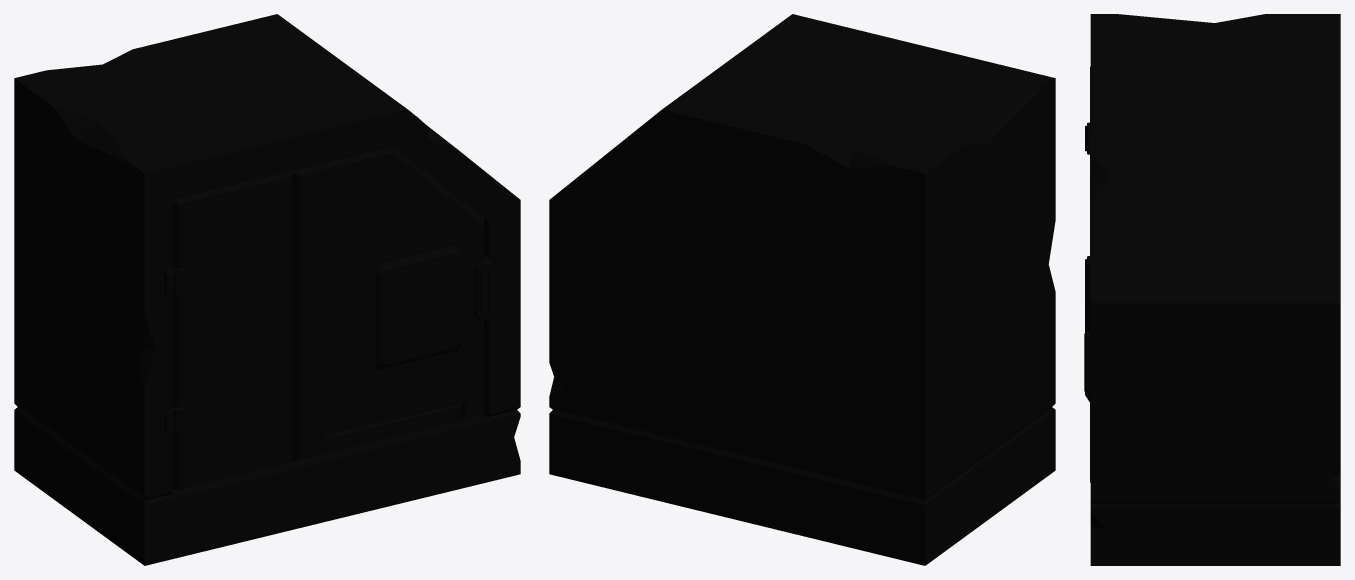
File: cyber_SM_Prop_Electrical_Box_01.gltf
3 views of the same model, side by side, from view 1: azimuth 30°, elevation 25°; view 2: azimuth 150°, elevation 25°; view 3: azimuth 270°, elevation 25° (orthographic). The views are drawn at different scales.
Parts seen in each view (by area): view 1: SM_Prop_Electrical_Box_01; view 2: SM_Prop_Electrical_Box_01; view 3: SM_Prop_Electrical_Box_01.
Boxes of the visible parts, x1=… form: SM_Prop_Electrical_Box_01: x1=14, y1=14, x2=520, y2=565; SM_Prop_Electrical_Box_01: x1=549, y1=14, x2=1055, y2=565; SM_Prop_Electrical_Box_01: x1=1084, y1=14, x2=1340, y2=565.
Bounding box in the file's own units: 1.25 × 1.25 × 0.7709.
Materials: 1 (1 with a texture image).
